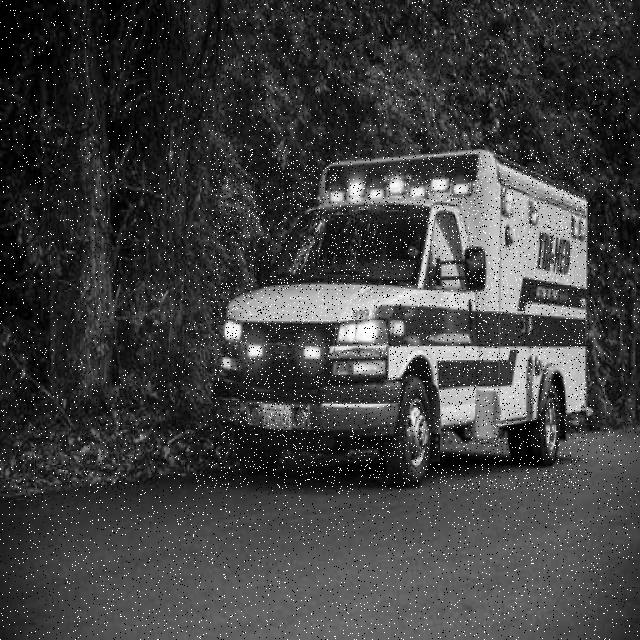Ambulance: (211, 149, 589, 489)
